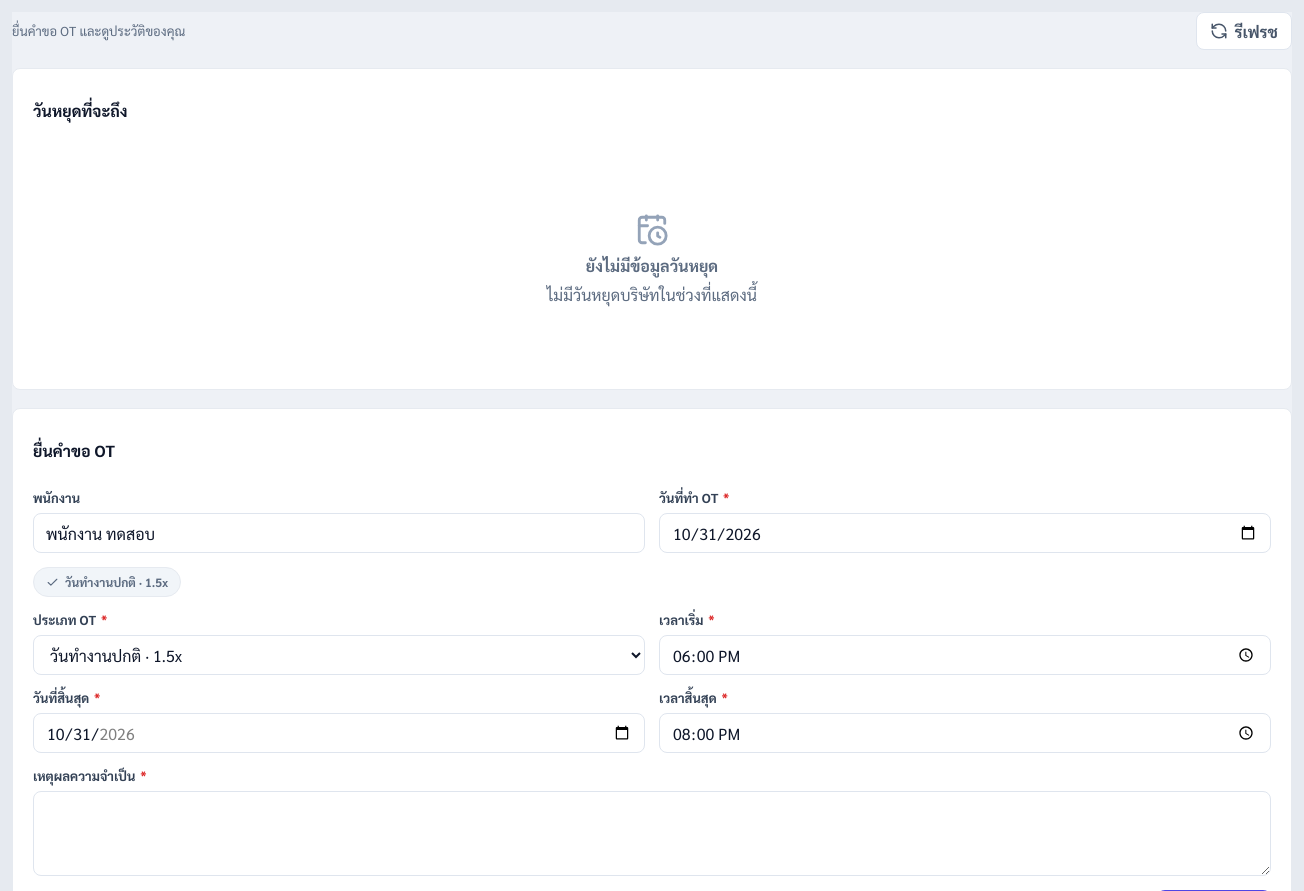
OvertimePage holiday verdict › notes inline that an over-claim will be flagged for the approver, not refused
The width and height of the screenshot is (1304, 891).
Expected: the text "วันทำงานปกติ · 1.5x" is shown, x1=33 y1=567 x2=181 y2=597
Select "วันหยุด/วันหยุดนักขัตฤกษ์ · 3x" in the dropdown labelled "ประเภท OT *": (339, 655) x1=33 y1=635 x2=645 y2=675
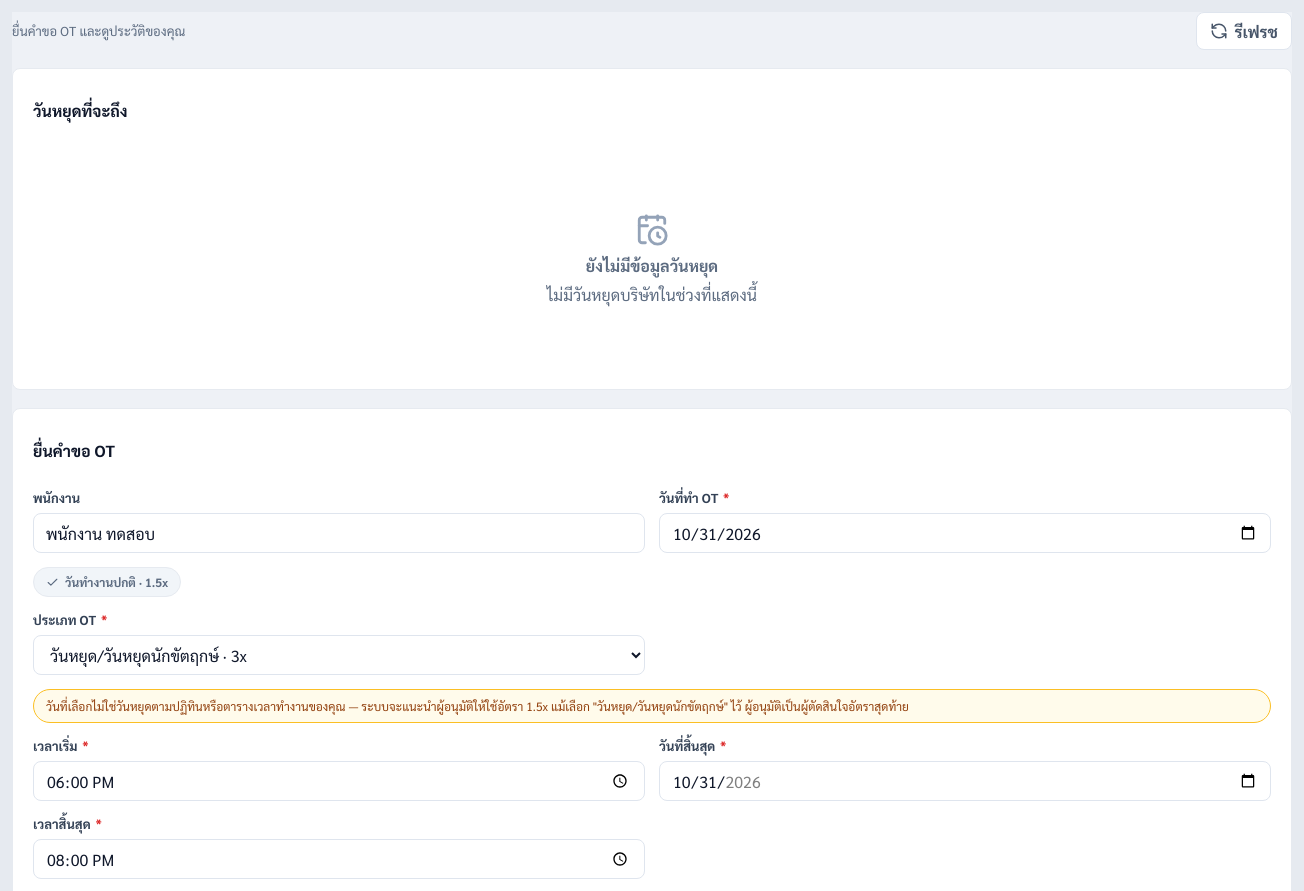
Expected: the text "ระบบจะแนะนำผู้อนุมัติให้ใช้อัตรา 1.5x" is shown, x1=46 y1=698 x2=909 y2=714
